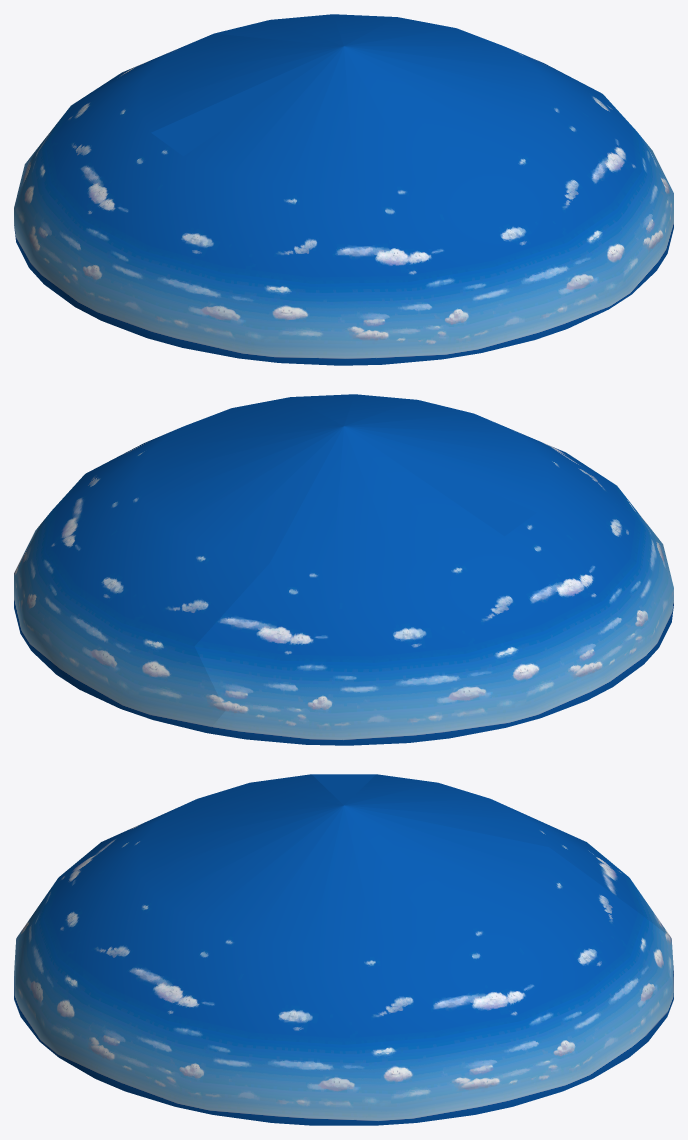
File: Peach Beach.fbx
The picture shows the model from 3 angles, top to bottom: view 1: azimuth 30°, elevation 25°; view 2: azimuth 150°, elevation 25°; view 3: azimuth 270°, elevation 25°; orthographic projection.
Visible parts, largest first — view 1: peachbeach:Group4; view 2: peachbeach:Group4; view 3: peachbeach:Group4.
Boxes of the visible parts, left/top/right/bottom form: peachbeach:Group4: left=14, top=14, right=673, bottom=365; peachbeach:Group4: left=14, top=394, right=673, bottom=745; peachbeach:Group4: left=14, top=774, right=673, bottom=1125.
Bounding box in the file's own units: 261 × 79.72 × 261.
Materials: 14 (13 with a texture image).
